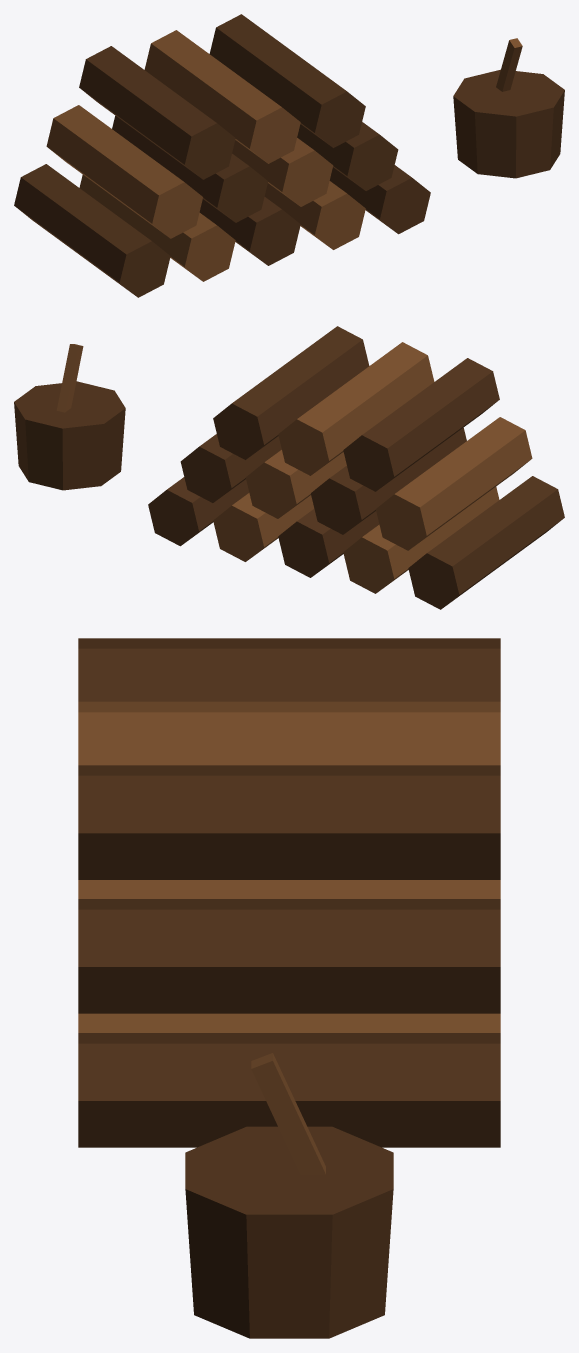
The model's file is woodpile.glb.
3 renders of one model, top to bottom at view 1: azimuth 30°, elevation 25°; view 2: azimuth 150°, elevation 25°; view 3: azimuth 270°, elevation 25°, orthographic. The views are drawn at different scales.
Visible parts, largest first — view 1: woodpile; view 2: woodpile; view 3: woodpile.
Part boxes in pixels (x1,y1,x2,y2): woodpile: (14, 14, 564, 297); woodpile: (14, 326, 564, 609); woodpile: (78, 638, 500, 1338).
Bounding box in the file's own units: 2.4 × 0.7356 × 0.9.
